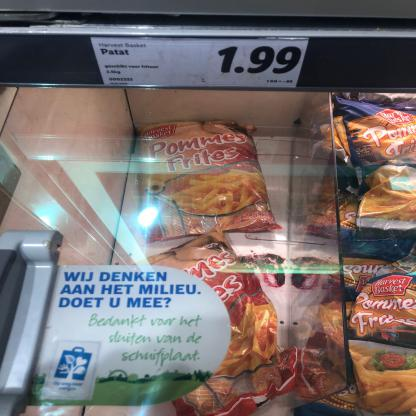prtg: (91, 37, 310, 88)
